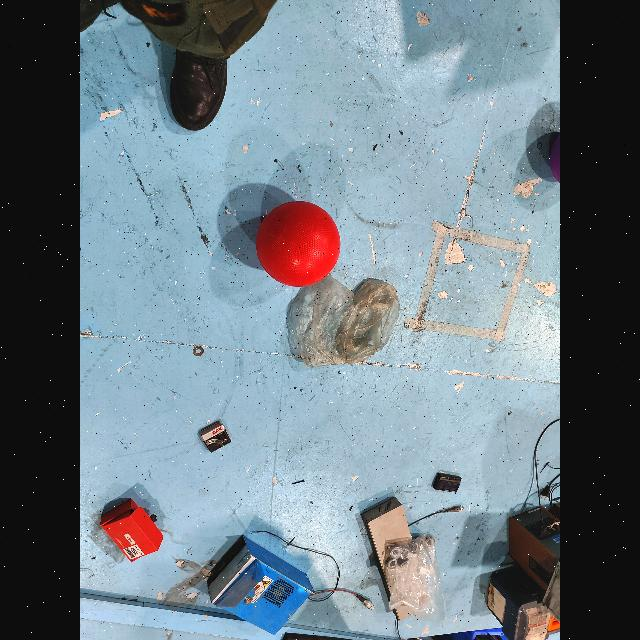P: (550, 123, 560, 193)
R: (255, 200, 342, 288)
